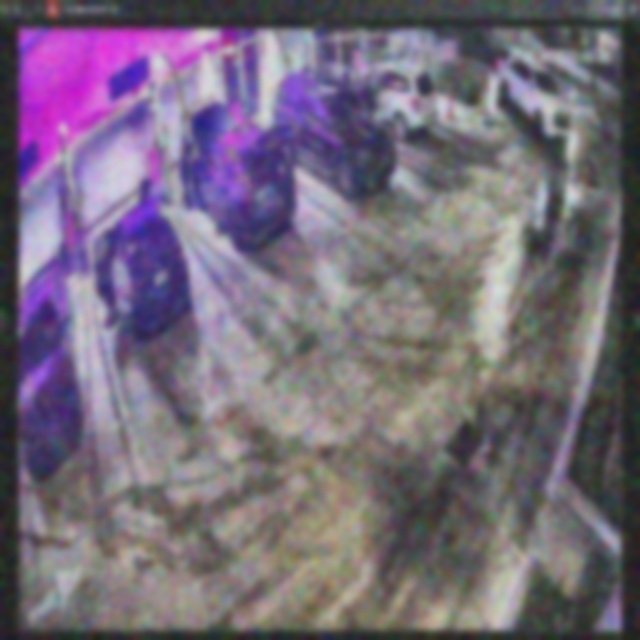Car: (272, 70, 396, 194), (192, 104, 294, 254), (93, 192, 191, 342)
